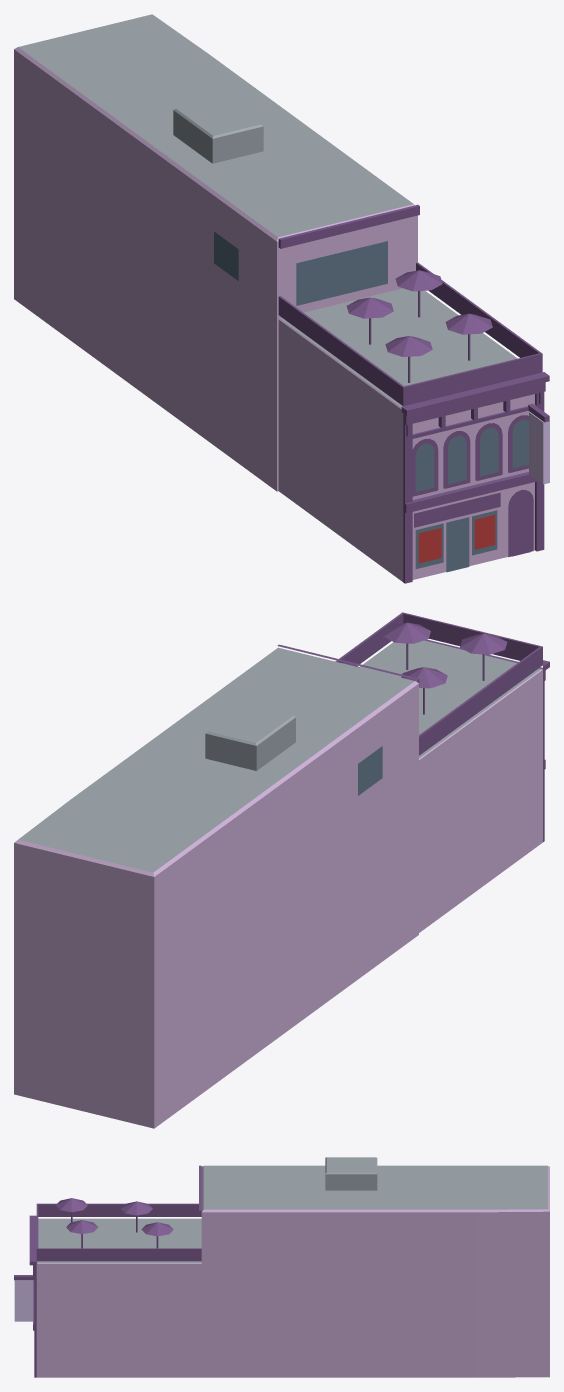
The model's file is nash-tootsies.glb.
The picture shows the model from 3 angles, top to bottom: view 1: azimuth 30°, elevation 25°; view 2: azimuth 150°, elevation 25°; view 3: azimuth 270°, elevation 25°; orthographic projection. The views are drawn at different scales.
Visible parts, largest first — view 1: Tootsie's Orchid Lounge; view 2: Tootsie's Orchid Lounge; view 3: Tootsie's Orchid Lounge.
Boxes of the visible parts, x1,y1,x2,y2 form: Tootsie's Orchid Lounge: (14, 14, 549, 583); Tootsie's Orchid Lounge: (14, 612, 549, 1128); Tootsie's Orchid Lounge: (14, 1157, 549, 1377).
Bounding box in the file's own units: 8.46 × 15.7 × 41.25.
